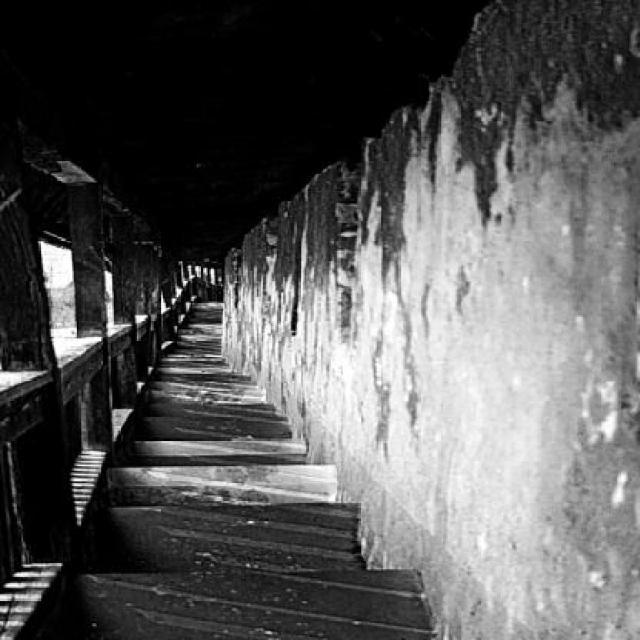stair: (51, 297, 443, 640)
